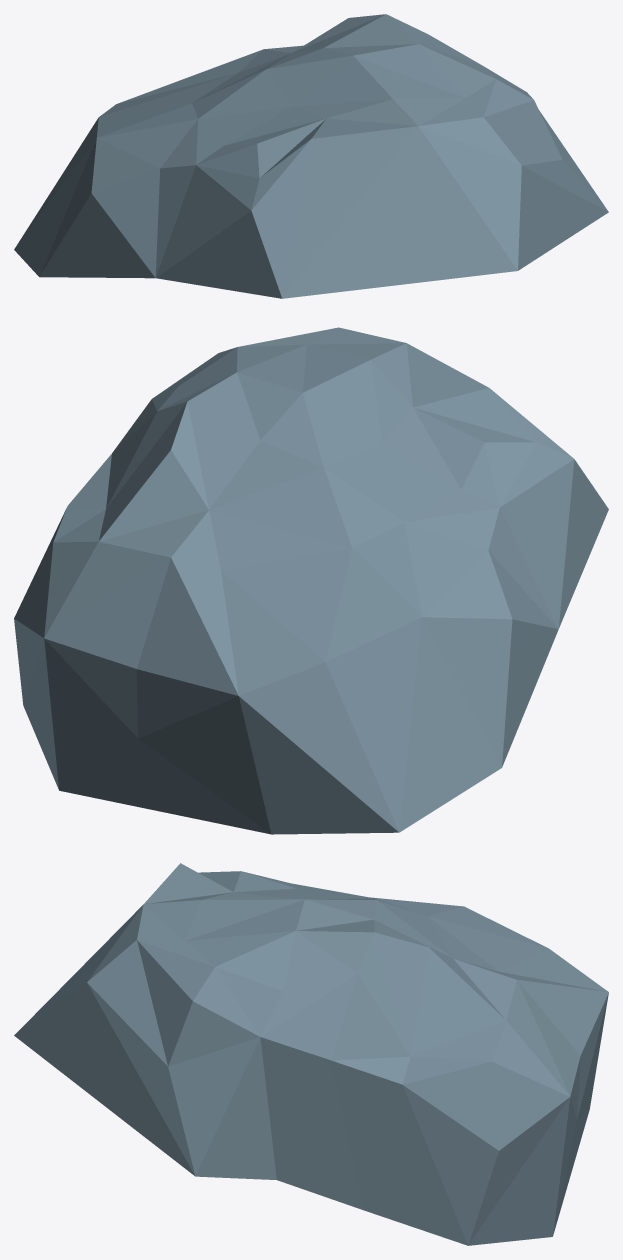
File: Woods Boulder.glb
3 views of the same model, one above another, from view 1: azimuth 30°, elevation 25°; view 2: azimuth 150°, elevation 25°; view 3: azimuth 270°, elevation 25° (orthographic). The views are drawn at different scales.
Visible parts, largest first — view 1: group1922369548; view 2: group1922369548; view 3: group1922369548.
Boxes of the visible parts, box(x1,y1,x2,y2) form: group1922369548: box(14, 14, 608, 298); group1922369548: box(14, 327, 608, 834); group1922369548: box(14, 863, 608, 1245).
Bounding box in the file's own units: 3.04 × 1.83 × 3.38.
